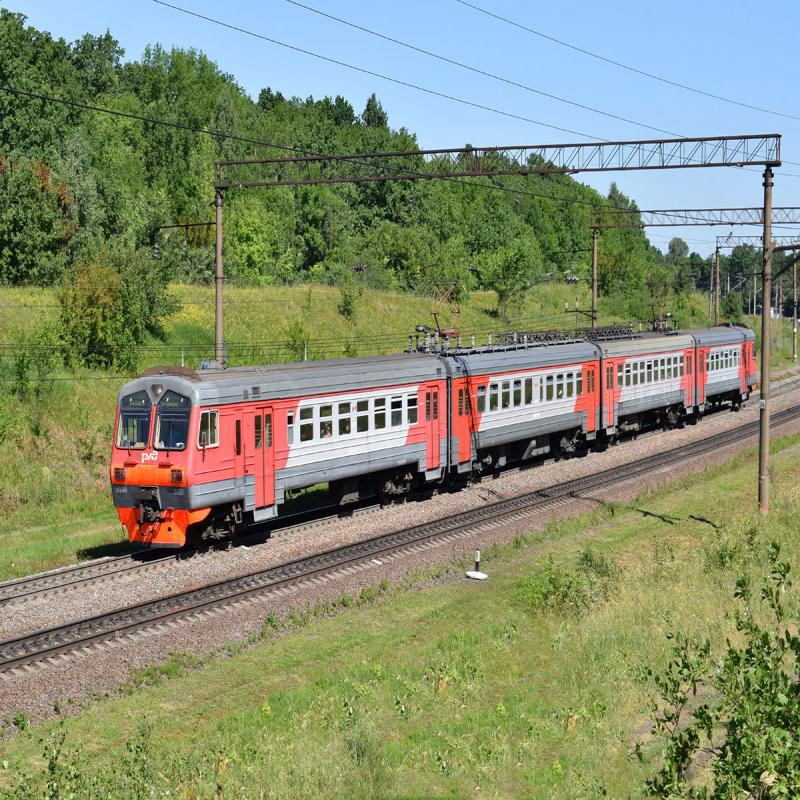train: (102, 324, 455, 561), (433, 291, 610, 482), (591, 304, 701, 449), (679, 313, 773, 421)
